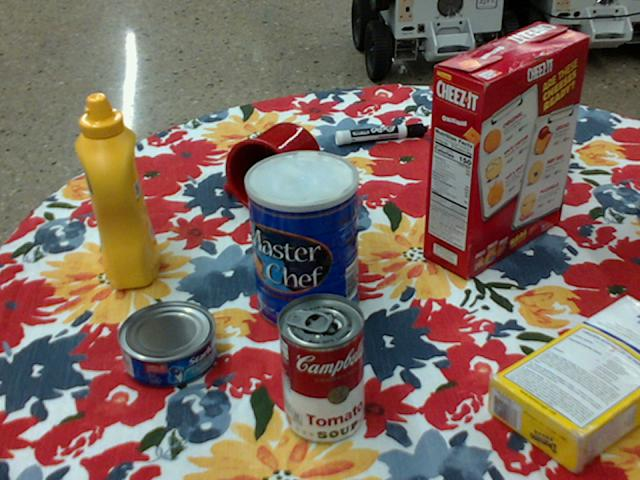cracker_box: (427, 23, 591, 279)
gelatin_box: (494, 125, 558, 179)
large_marker: (334, 121, 427, 144)
master_chef_can: (243, 149, 357, 332)
mug: (223, 121, 320, 217)
mustard_bottle: (75, 94, 160, 289)
potted_meat_can: (637, 202, 639, 220)
sugar_box: (489, 294, 639, 471)
tomato_soup_can: (275, 292, 363, 443)
tuna_fish_can: (114, 299, 214, 386)
